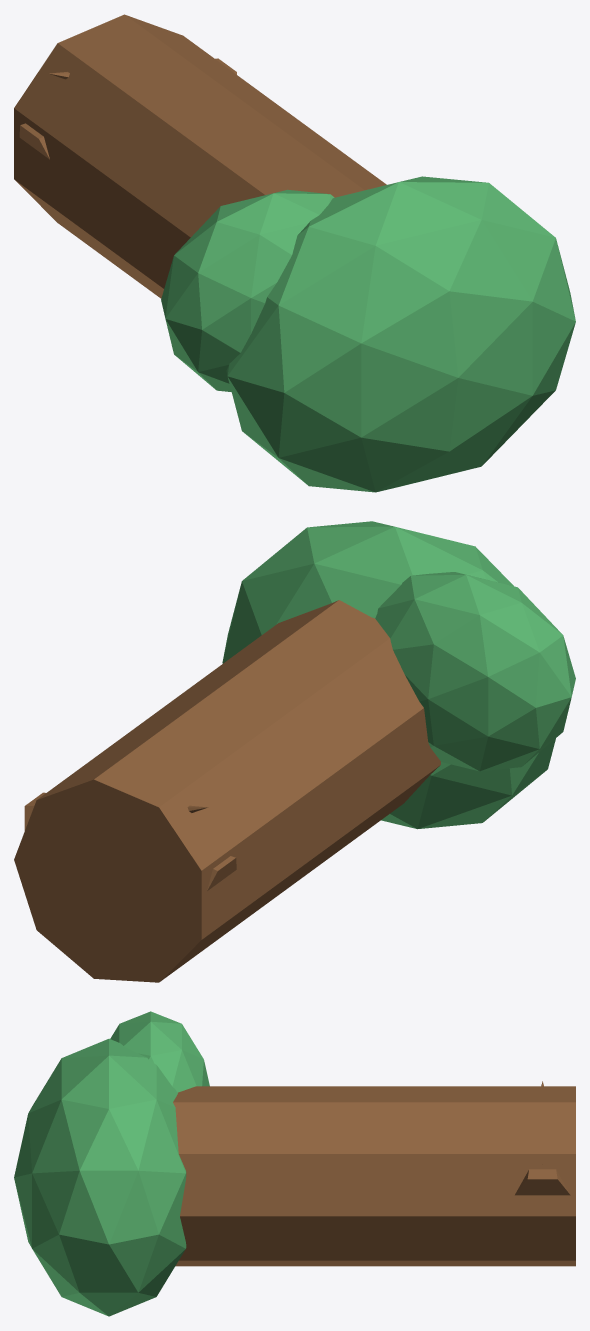
File: ancient_tree_trunk.glb
3 renders of one model, top to bottom at view 1: azimuth 30°, elevation 25°; view 2: azimuth 150°, elevation 25°; view 3: azimuth 270°, elevation 25°, orthographic. The views are drawn at different scales.
Visible parts, largest first — view 1: leavesA, trunk, leavesB; view 2: trunk, leavesB, leavesA; view 3: trunk, leavesA, leavesB, root2.
Boxes of the visible parts, x1,y1,x2,y2 form: leavesA: [226, 176, 575, 492]; trunk: [14, 14, 386, 298]; leavesB: [161, 189, 334, 391]; trunk: [14, 600, 440, 982]; leavesB: [375, 572, 575, 771]; leavesA: [222, 521, 555, 829]; trunk: [173, 1086, 575, 1266]; leavesA: [14, 1038, 186, 1316]; leavesB: [110, 1011, 209, 1092]; root2: [515, 1081, 570, 1195].
Bounding box in the file's own units: 2.1 × 1.62 × 3.37.
